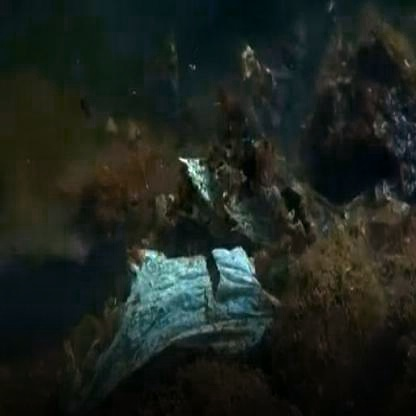plastic: (78, 243, 267, 359)
